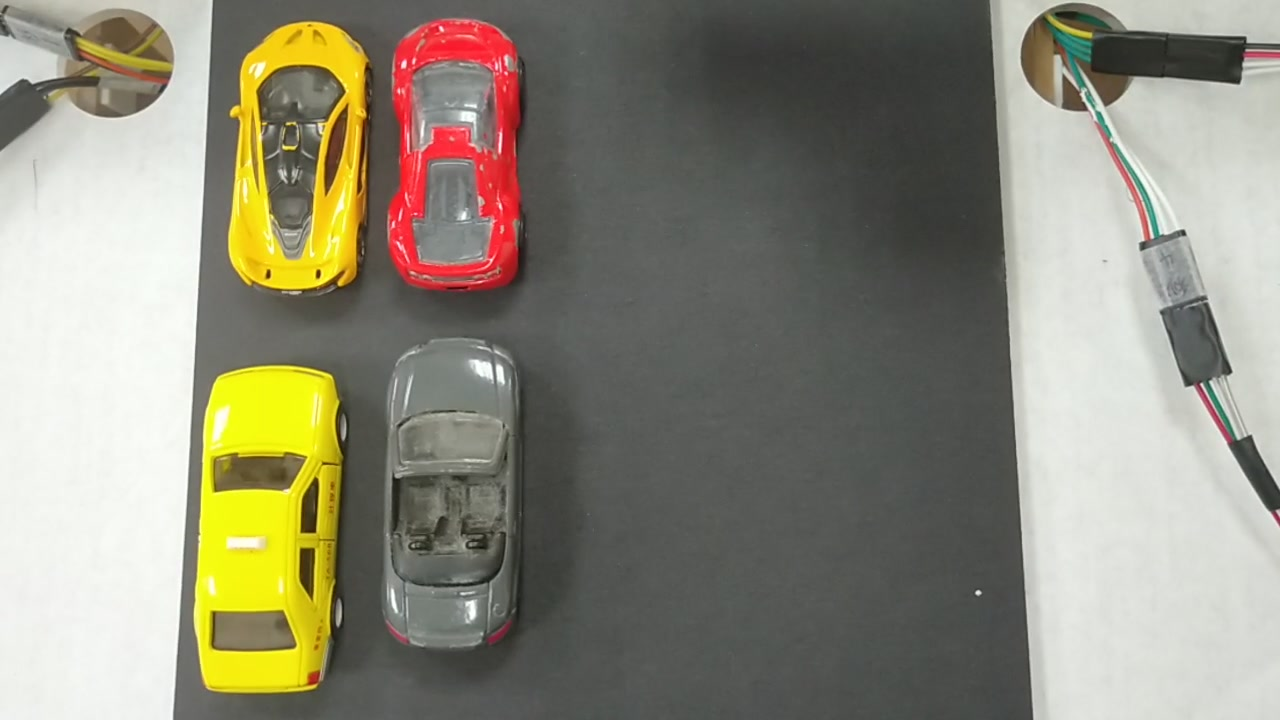car: (200, 366, 342, 694), (392, 345, 518, 644), (228, 26, 364, 291), (389, 23, 520, 284)
